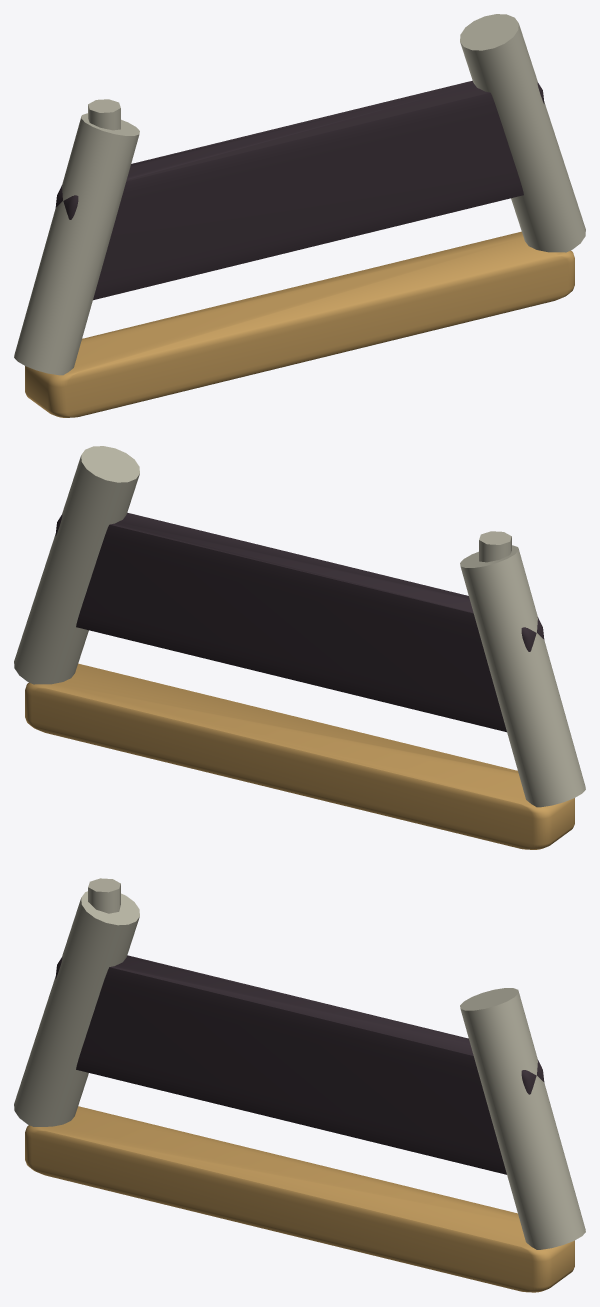
File: Continental.glb
3 views of the same model, one above another, from view 1: azimuth 30°, elevation 25°; view 2: azimuth 150°, elevation 25°; view 3: azimuth 330°, elevation 25° (orthographic).
Parts seen in each view (by area): view 1: Ribbon window, Lift bridge, Vibrator fork (×2), Eyelet; view 2: Ribbon window, Lift bridge, Vibrator fork (×2), Eyelet; view 3: Ribbon window, Lift bridge, Vibrator fork (×2), Eyelet.
Part boxes in pixels (x1=…): Ribbon window: x1=55, y1=80, x2=544, y2=300; Lift bridge: x1=25, y1=231, x2=574, y2=417; Vibrator fork (×2): x1=14, y1=14, x2=585, y2=375; Eyelet: x1=88, y1=99, x2=120, y2=130; Ribbon window: x1=55, y1=512, x2=544, y2=732; Lift bridge: x1=25, y1=663, x2=574, y2=849; Vibrator fork (×2): x1=14, y1=446, x2=585, y2=807; Eyelet: x1=479, y1=531, x2=511, y2=562; Ribbon window: x1=55, y1=955, x2=544, y2=1174; Lift bridge: x1=25, y1=1106, x2=574, y2=1292; Vibrator fork (×2): x1=14, y1=891, x2=585, y2=1249; Eyelet: x1=88, y1=878, x2=120, y2=913.
Bounding box in the file's own units: 0.4617 × 0.2255 × 0.05.
